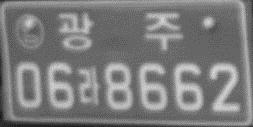0: (15, 60, 43, 110)
2: (209, 62, 241, 114)
6: (137, 61, 169, 112), (172, 62, 204, 112), (46, 61, 75, 110)
8: (103, 61, 135, 111)
광주_D: (57, 11, 183, 51)
라: (76, 66, 101, 106)
영: (14, 13, 45, 51)
